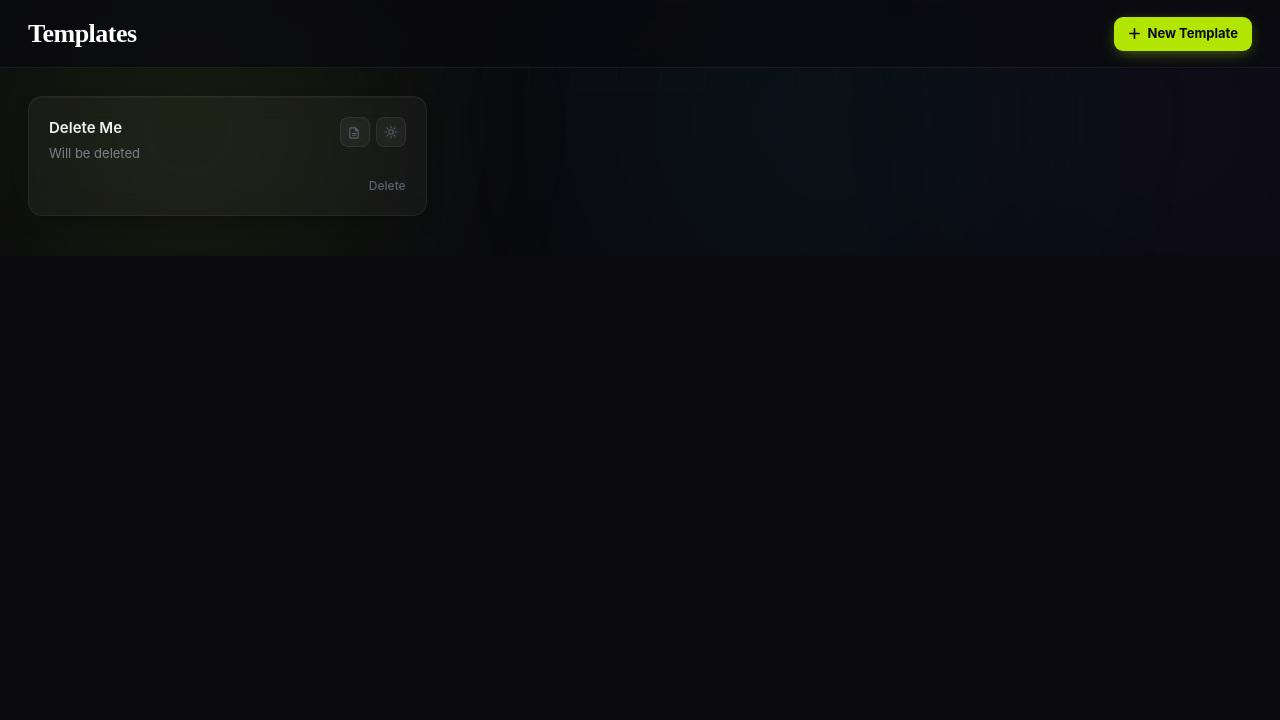
Test: HarnessesPage › shows delete confirmation dialog
Expected: the heading "Delete Me" is shown, top-left (49, 118), bottom-right (122, 137)
Find and click the Delete button
Click the button with aria-label "Delete Delete Me". click: (387, 186)
box: top-left (369, 177), bottom-right (406, 195)
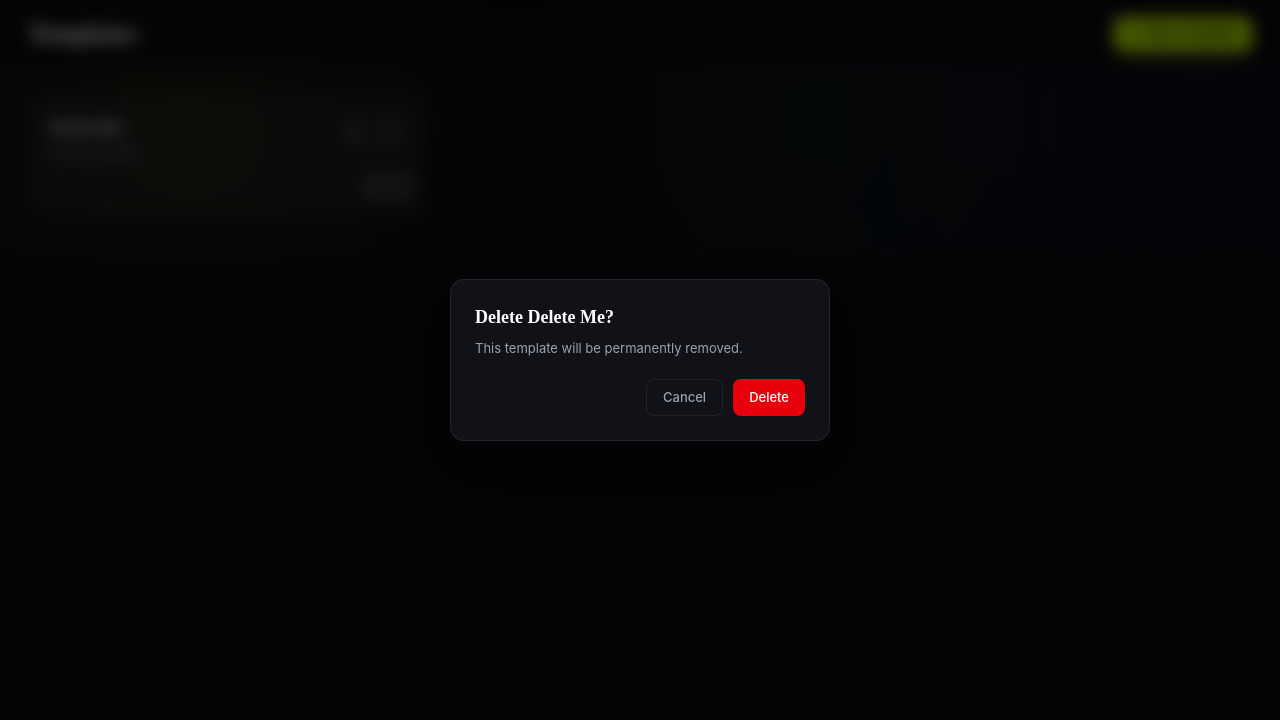
Now the heading "Delete Delete Me?" is shown, box top-left (475, 307), bottom-right (614, 327)
